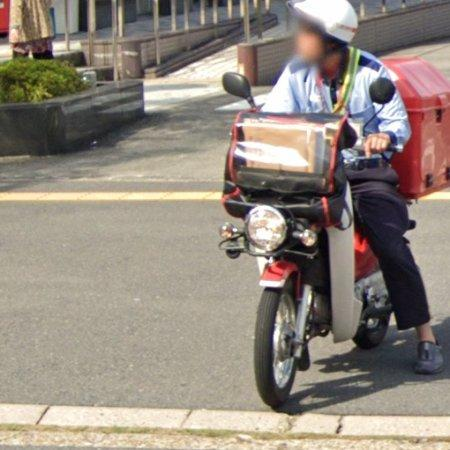motorcycles: (220, 72, 393, 409)
